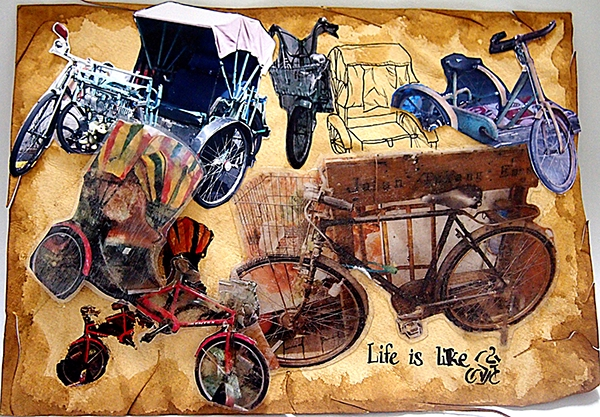bicycle: (222, 169, 582, 359), (51, 128, 269, 417), (13, 1, 273, 210), (428, 35, 578, 165), (280, 25, 360, 174)
